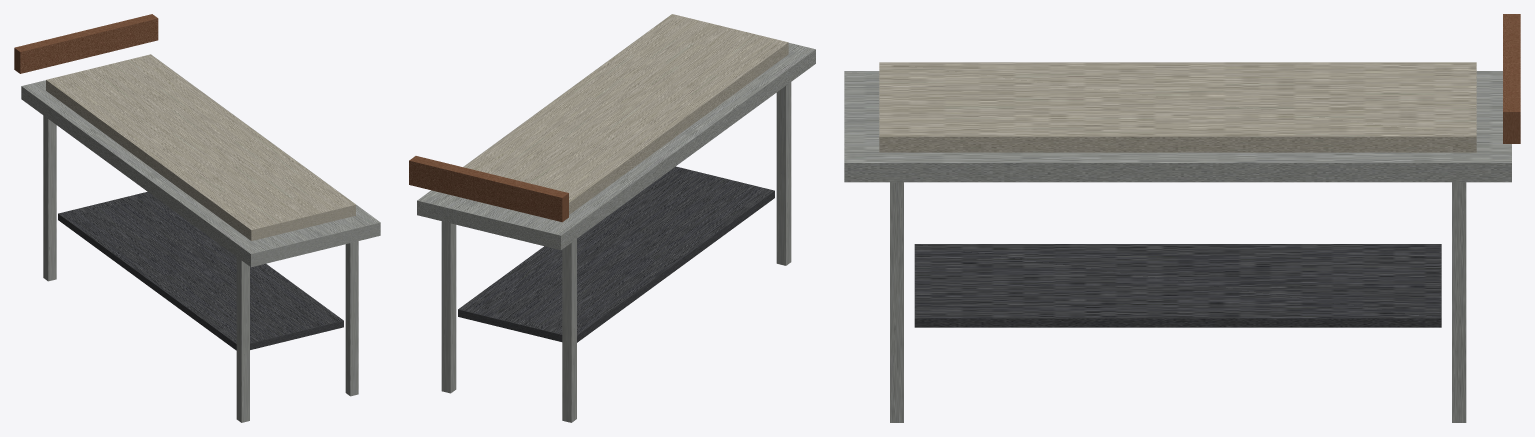
Rendered from gurney.glb.
The picture shows the model from 3 angles, left to right: view 1: azimuth 30°, elevation 25°; view 2: azimuth 150°, elevation 25°; view 3: azimuth 270°, elevation 25°; orthographic projection. The views are drawn at different scales.
Visible parts, largest first — view 1: synthetic; view 2: synthetic; view 3: synthetic.
Part boxes in pixels (bbox=[...]): synthetic: bbox=[14, 14, 380, 422]; synthetic: bbox=[409, 14, 815, 422]; synthetic: bbox=[844, 14, 1520, 422].
Size of the model in its own units: 1.58 by 2.4 by 4.62.
Materials: 1 (1 with a texture image).
